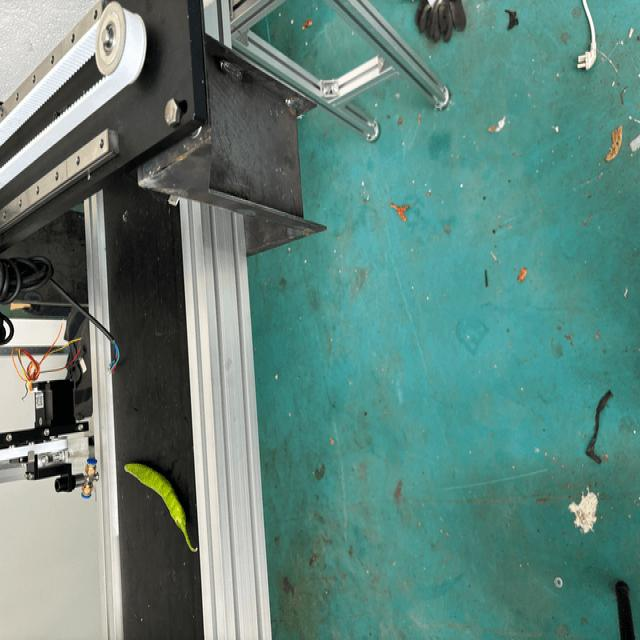chili: (121, 460, 188, 534)
